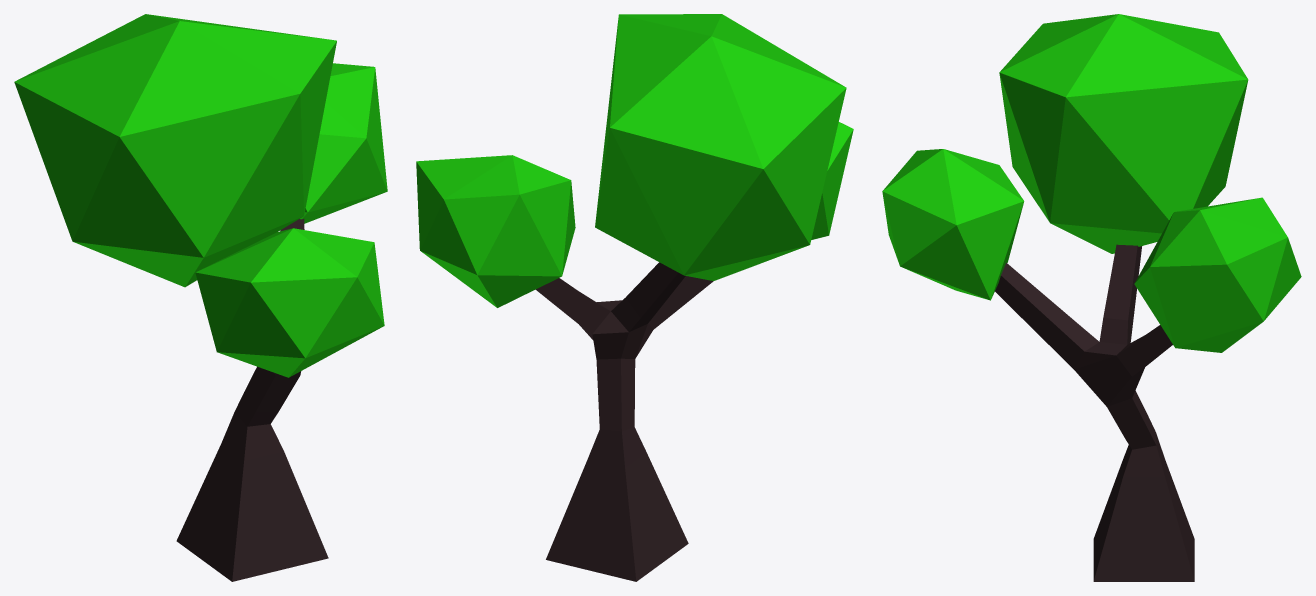
Rendered from dtree5B(F197).obj.
3 renders of one model, left to right at view 1: azimuth 30°, elevation 25°; view 2: azimuth 150°, elevation 25°; view 3: azimuth 270°, elevation 25°, orthographic. The views are drawn at different scales.
Parts seen in each view (by area): view 1: Icosphere.047, Icosphere.048, Cube.011, Icosphere.046; view 2: Icosphere.047, Cube.011, Icosphere.046, Icosphere.048; view 3: Icosphere.047, Cube.011, Icosphere.046, Icosphere.048.
Boxes of the visible parts, <box> form: Icosphere.047: <box>14,14,336,287</box>; Icosphere.048: <box>195,228,384,377</box>; Cube.011: <box>176,219,328,581</box>; Icosphere.046: <box>300,63,387,223</box>; Icosphere.047: <box>595,14,846,280</box>; Cube.011: <box>535,262,713,581</box>; Icosphere.046: <box>416,155,575,307</box>; Icosphere.048: <box>811,122,853,239</box>; Icosphere.047: <box>999,14,1248,253</box>; Cube.011: <box>995,244,1194,581</box>; Icosphere.046: <box>1134,197,1301,352</box>; Icosphere.048: <box>882,149,1024,300</box>.
Bounding box in the file's own units: 1.5 × 2.2 × 1.65.
